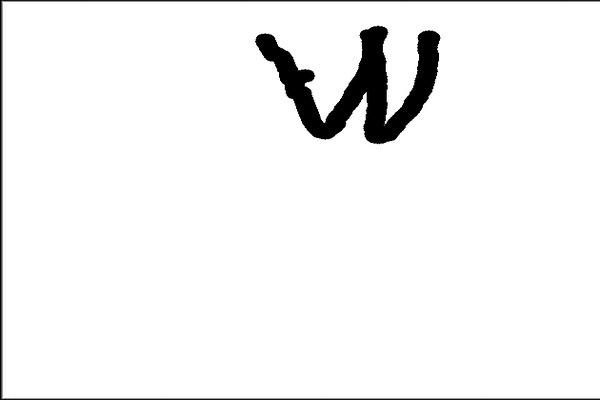w: (248, 10, 455, 163)
